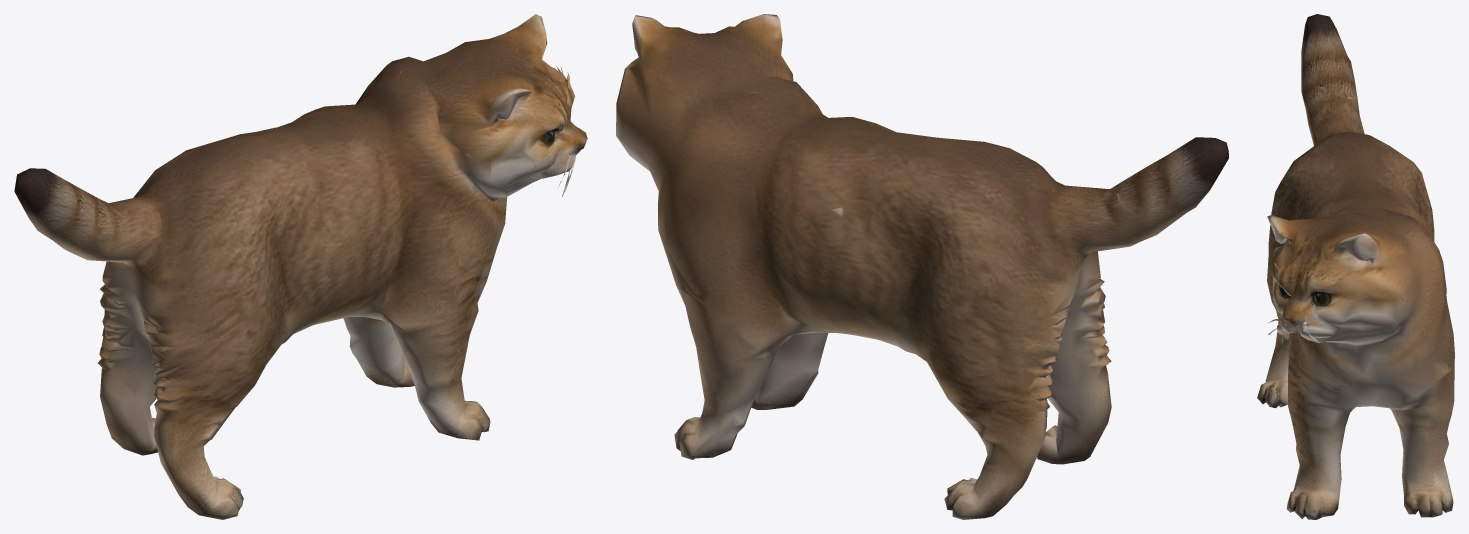
File: hosico-cat-lo.glb
3 views of the same model, side by side, from view 1: azimuth 30°, elevation 25°; view 2: azimuth 150°, elevation 25°; view 3: azimuth 270°, elevation 25° (orthographic). The views are drawn at different scales.
Parts seen in each view (by area): view 1: tripo_node_75361750-a0cc-4065-b160-84271212cbf1; view 2: tripo_node_75361750-a0cc-4065-b160-84271212cbf1; view 3: tripo_node_75361750-a0cc-4065-b160-84271212cbf1.
Part boxes in pixels (bbox=[...]): tripo_node_75361750-a0cc-4065-b160-84271212cbf1: bbox=[14, 14, 587, 519]; tripo_node_75361750-a0cc-4065-b160-84271212cbf1: bbox=[616, 14, 1228, 519]; tripo_node_75361750-a0cc-4065-b160-84271212cbf1: bbox=[1257, 14, 1454, 519].
Size of the model in its own units: 1.59 by 0.9992 by 0.5533.
1 material, 1 textured.
